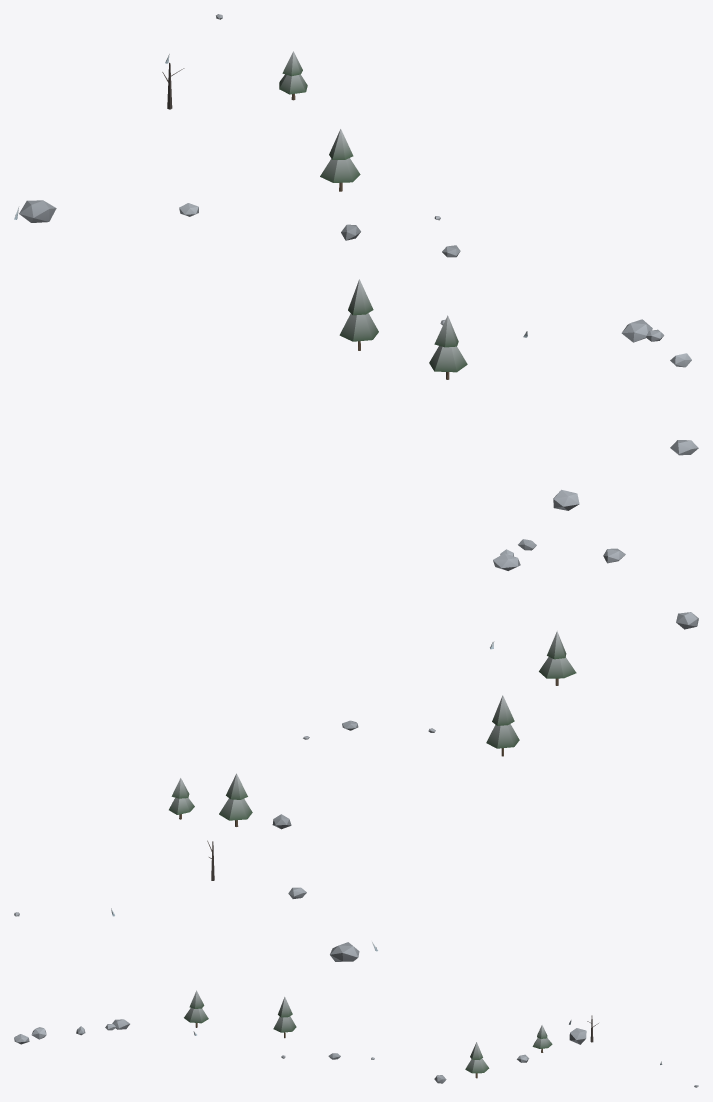
File: frost_land_scatter_c11_12_lod1.glb
3 renders of one model, top to bottom at view 1: azimuth 30°, elevation 25°; view 2: azimuth 150°, elevation 25°; view 3: azimuth 270°, elevation 25°, orthographic. The views are drawn at different scales.
Parts seen in each view (by area): view 1: frost_land_scatter_c11_12_lod1; view 2: frost_land_scatter_c11_12_lod1; view 3: frost_land_scatter_c11_12_lod1.
Boxes of the visible parts, bbox=[...] form: frost_land_scatter_c11_12_lod1: bbox=[14, 14, 698, 510]; frost_land_scatter_c11_12_lod1: bbox=[14, 539, 698, 961]; frost_land_scatter_c11_12_lod1: bbox=[14, 990, 698, 1087].
Size of the model in its own units: 51.71 by 21.75 by 167.
